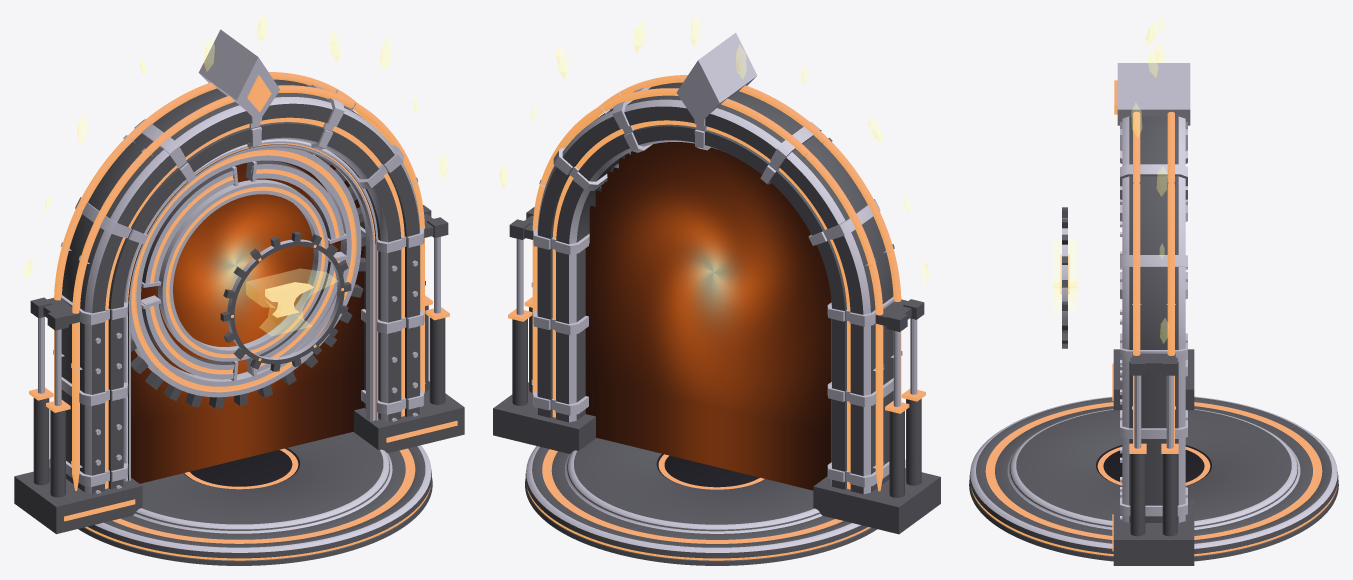
Rendered from Portal_Workshop_web.glb.
The picture shows the model from 3 angles, left to right: view 1: azimuth 30°, elevation 25°; view 2: azimuth 150°, elevation 25°; view 3: azimuth 270°, elevation 25°; orthographic projection. The views are drawn at different scales.
Visible parts, largest first — view 1: Portal_Workshop_Frame, Portal_Workshop_Membrane, Portal_Workshop_Base, Portal_Workshop, Portal_Workshop_Details, Portal_Workshop_Conduits, Portal_Workshop_Symbol_Cage, Portal_Workshop_Symbol, Portal_Workshop_Accents, Portal_Workshop_Symbol_Core; view 2: Portal_Workshop_Membrane, Portal_Workshop_Frame, Portal_Workshop_Base, Portal_Workshop_Details, Portal_Workshop_Conduits, Portal_Workshop_Accents; view 3: Portal_Workshop_Base, Portal_Workshop_Frame, Portal_Workshop_Details, Portal_Workshop_Conduits, Portal_Workshop_Accents, Portal_Workshop_Symbol, Portal_Workshop_Symbol_Cage.
Boxes of the visible parts, x1,y1,x2,y2 form: Portal_Workshop_Frame: (61, 29, 424, 493); Portal_Workshop_Membrane: (131, 155, 364, 483); Portal_Workshop_Base: (49, 432, 432, 565); Portal_Workshop: (131, 144, 365, 408); Portal_Workshop_Details: (14, 90, 464, 534); Portal_Workshop_Conduits: (54, 72, 424, 490); Portal_Workshop_Symbol_Cage: (220, 232, 351, 371); Portal_Workshop_Symbol: (246, 268, 338, 335); Portal_Workshop_Accents: (23, 14, 447, 279); Portal_Workshop_Symbol_Core: (265, 282, 313, 317); Portal_Workshop_Membrane: (585, 142, 831, 490); Portal_Workshop_Frame: (533, 32, 894, 494); Portal_Workshop_Base: (525, 438, 905, 565); Portal_Workshop_Details: (493, 93, 940, 534); Portal_Workshop_Conduits: (532, 75, 901, 491); Portal_Workshop_Accents: (499, 15, 928, 284); Portal_Workshop_Base: (969, 396, 1338, 561); Portal_Workshop_Frame: (1114, 63, 1190, 522); Portal_Workshop_Details: (1112, 182, 1194, 565); Portal_Workshop_Conduits: (1133, 111, 1174, 443); Portal_Workshop_Accents: (1131, 15, 1168, 343); Portal_Workshop_Symbol: (1053, 240, 1076, 311); Portal_Workshop_Symbol_Cage: (1062, 207, 1067, 348).
Bounding box in the file's own units: 8.24 × 8.6 × 6.44.
7 materials, 1 textured.
